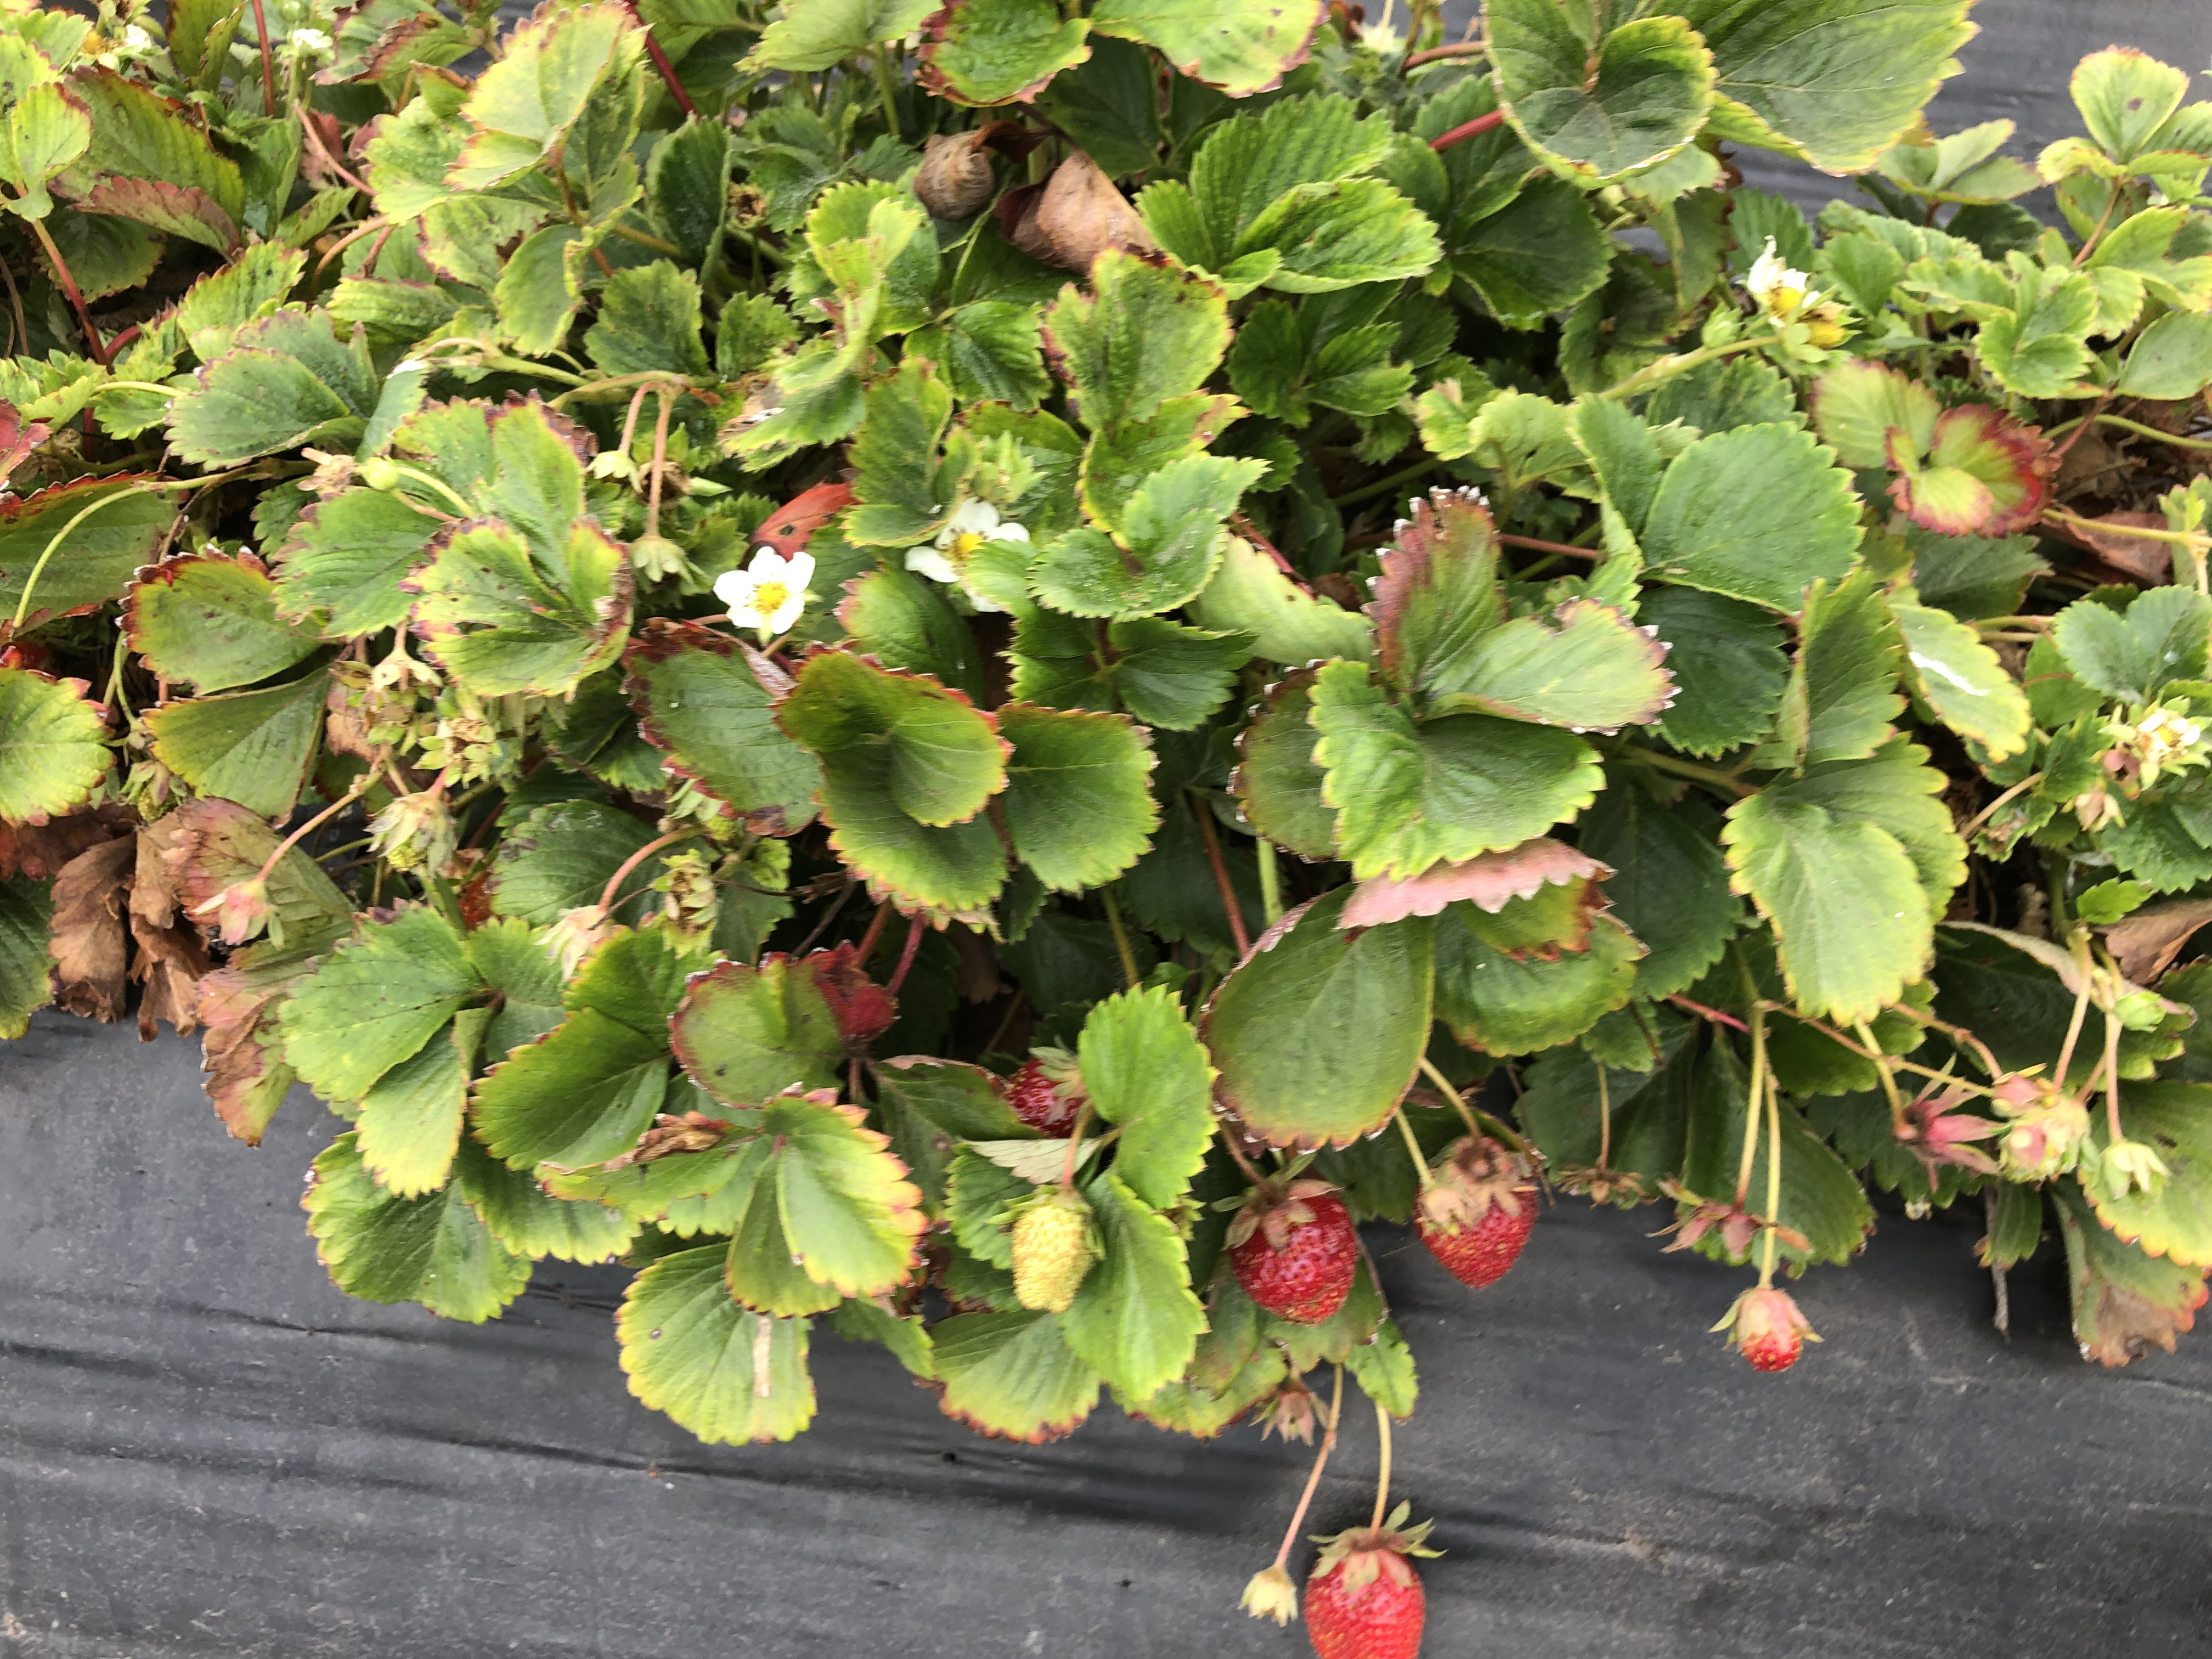ripe_strawberry: (1407, 1138, 1541, 1295), (1228, 1176, 1362, 1321), (1301, 1527, 1428, 1659), (998, 1040, 1090, 1140), (1730, 1284, 1806, 1375)
unripe_strawberry: (1012, 1182, 1103, 1317)
